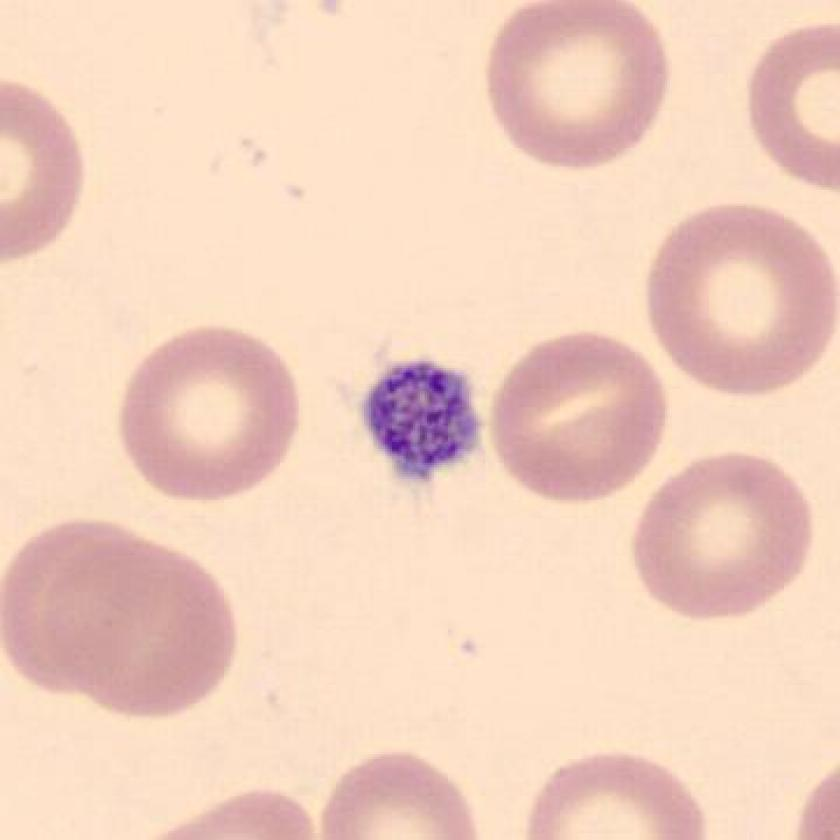platelets: (344, 341, 498, 489)
